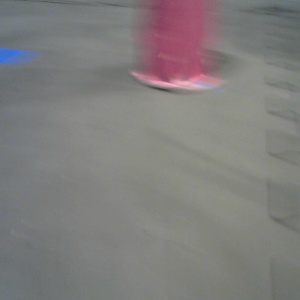Right: (133, 1, 214, 92)
